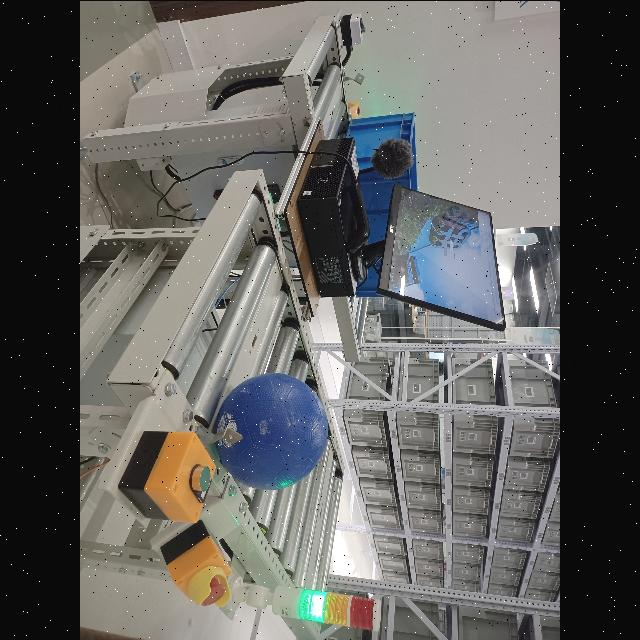B: (212, 372, 328, 488)
